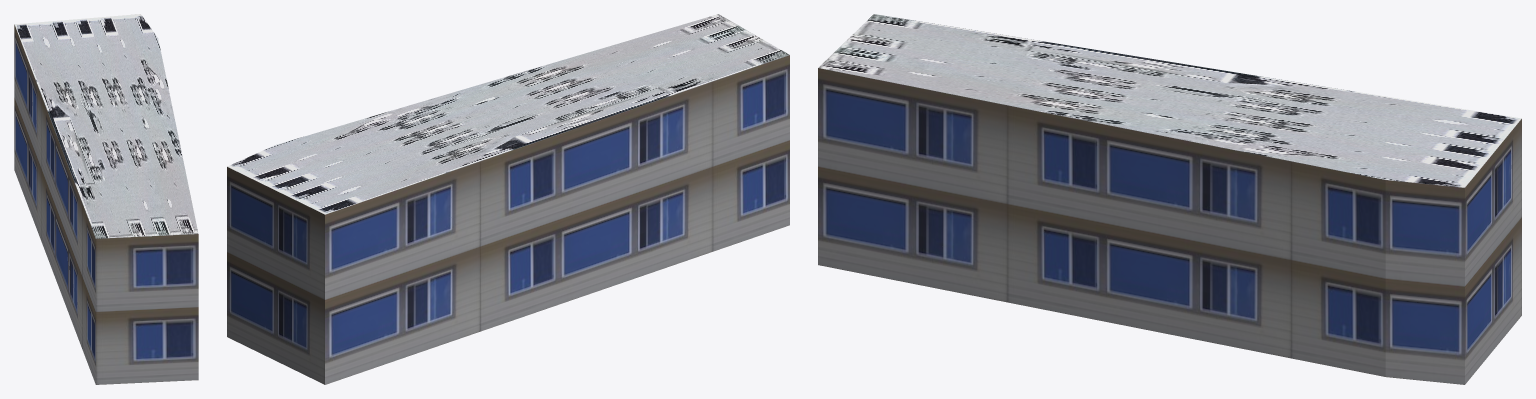
File: ResTex__2243.fbx
3 renders of one model, left to right at view 1: azimuth 30°, elevation 25°; view 2: azimuth 150°, elevation 25°; view 3: azimuth 270°, elevation 25°, orthographic. The views are drawn at different scales.
Visible parts, largest first — view 1: CityEngineMaterial_23_m, CityEngineMaterial_4_m; view 2: CityEngineMaterial_23_m, CityEngineMaterial_4_m; view 3: CityEngineMaterial_23_m, CityEngineMaterial_4_m.
Boxes of the visible parts, bbox=[...] form: CityEngineMaterial_23_m: bbox=[14, 24, 198, 384]; CityEngineMaterial_4_m: bbox=[14, 14, 198, 238]; CityEngineMaterial_23_m: bbox=[227, 55, 789, 384]; CityEngineMaterial_4_m: bbox=[227, 14, 789, 214]; CityEngineMaterial_23_m: bbox=[818, 68, 1521, 384]; CityEngineMaterial_4_m: bbox=[818, 14, 1521, 187].
Size of the model in its own units: 11.34 by 6 by 19.41.
Materials: 2 (2 with a texture image).
